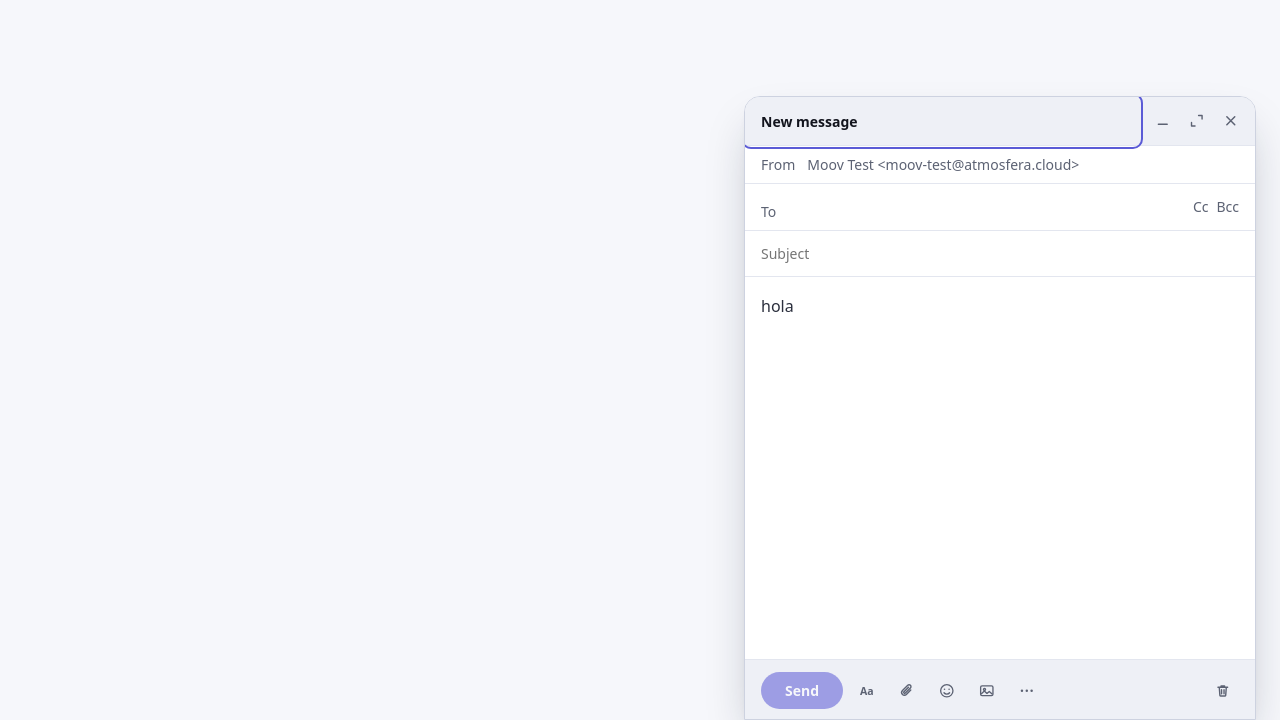
Test: D-01/D-04 — the formatting row lives in the footer, behind Aa › switches to rich mode when opened from plain, rather than showing dead buttons
Click the button with aria-label "Formatting options" at x=867, y=690, box [851,674,883,706]
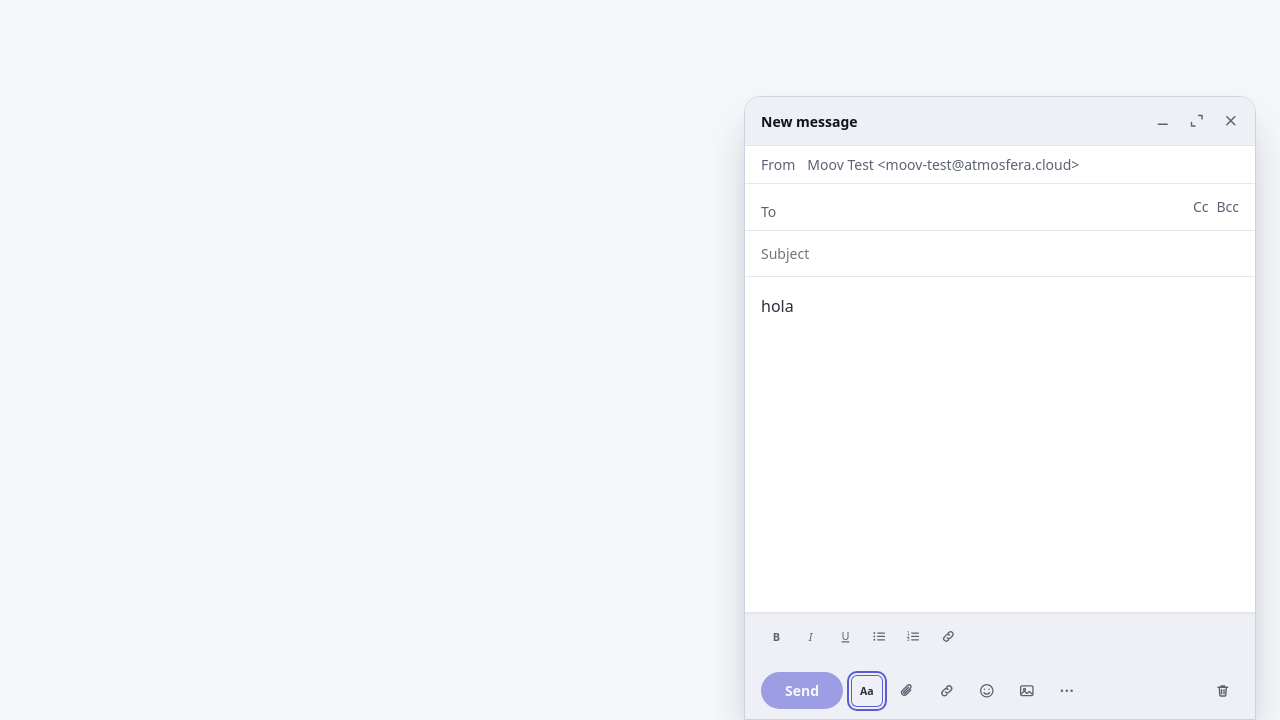
Expected: the element named "Formatting" is shown, [745,613,1255,660]
